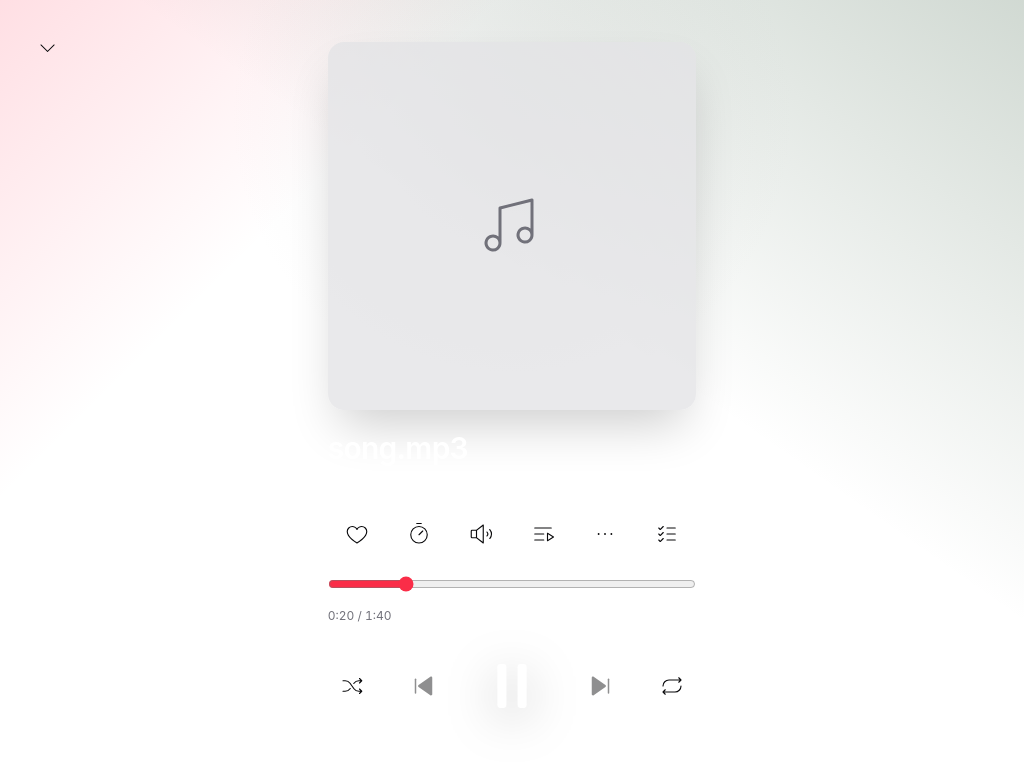
Test: FullPlayerScreen › sleep timer preset starts a visible countdown
Click the button named "Sleep timer" at (419, 534), box [392,510,446,558]
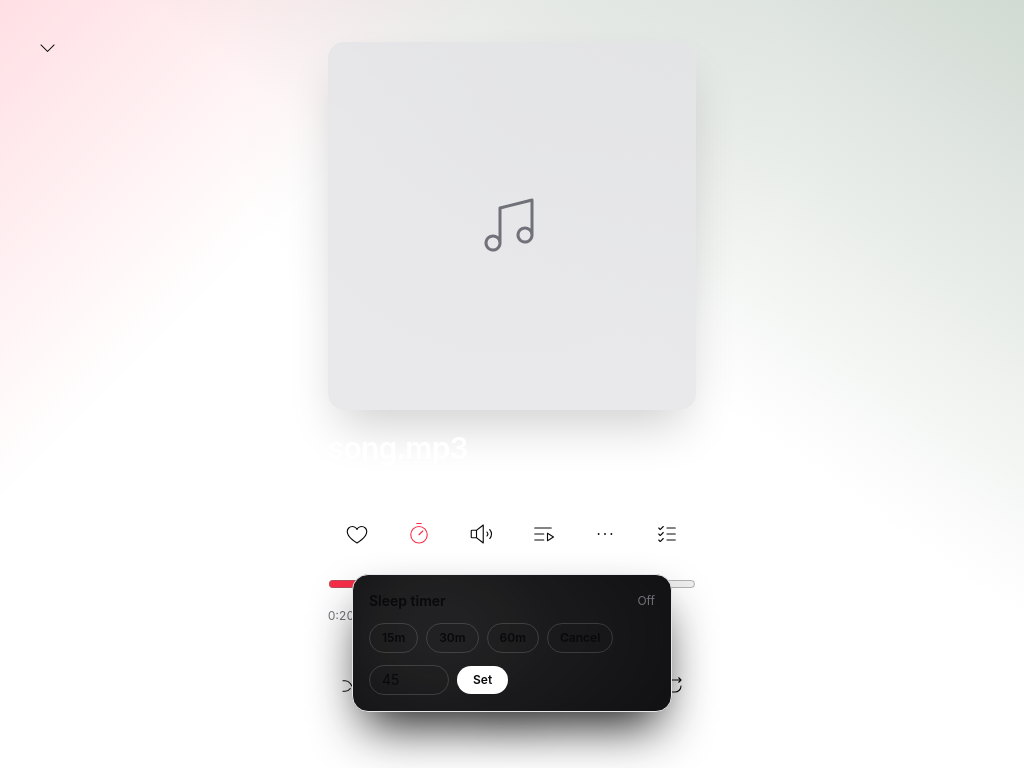
Click the button "15m" at (394, 638), box [369,623,418,653]
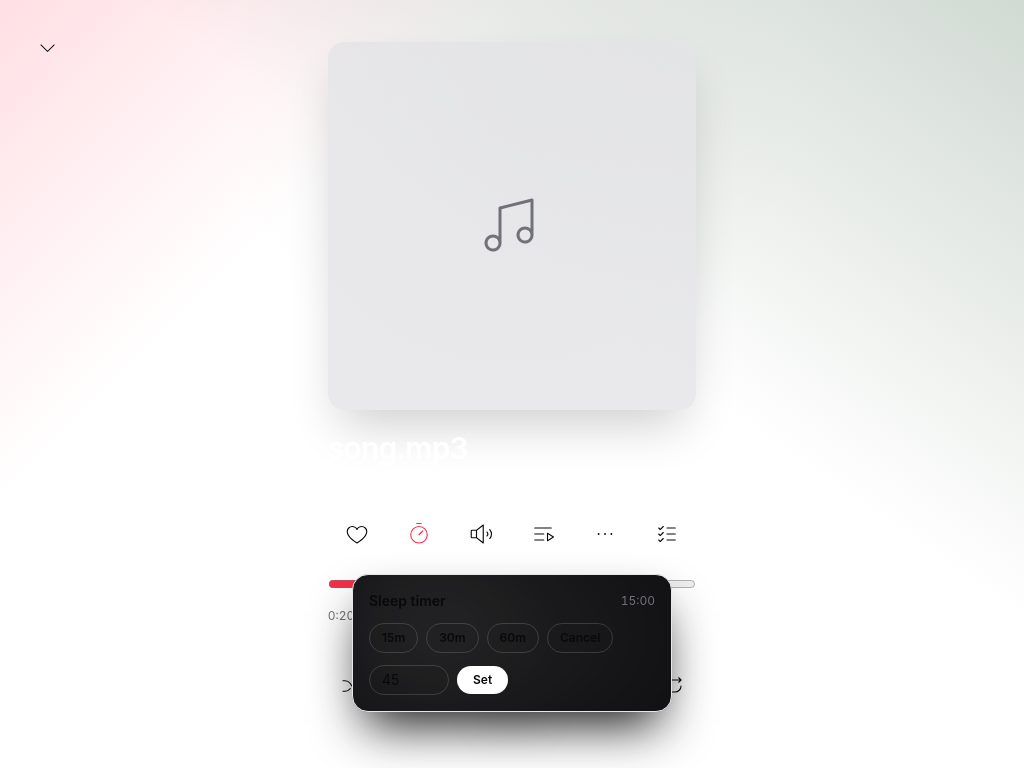
expect the text with test id "sleep-timer-status" reads "15:00": met, box [621,593,655,608]
